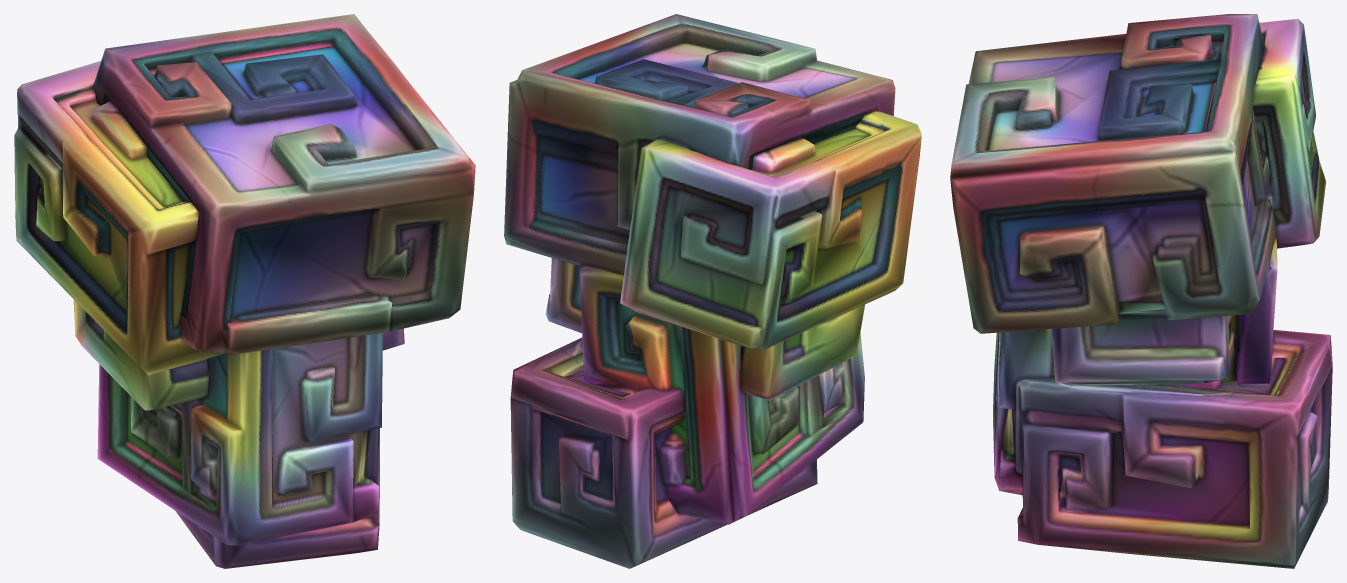
Rendered from SM_Gem_Bismuth_007.fbx.
The picture shows the model from 3 angles, left to right: view 1: azimuth 30°, elevation 25°; view 2: azimuth 150°, elevation 25°; view 3: azimuth 270°, elevation 25°; orthographic projection. The views are drawn at different scales.
Visible parts, largest first — view 1: SM_Gem_Bismuth_007; view 2: SM_Gem_Bismuth_007; view 3: SM_Gem_Bismuth_007.
Boxes of the visible parts, x1=… form: SM_Gem_Bismuth_007: x1=14, y1=14, x2=475, y2=568; SM_Gem_Bismuth_007: x1=504, y1=14, x2=921, y2=568; SM_Gem_Bismuth_007: x1=950, y1=14, x2=1332, y2=568.
Size of the model in its own units: 37.96 by 51.06 by 38.79.
